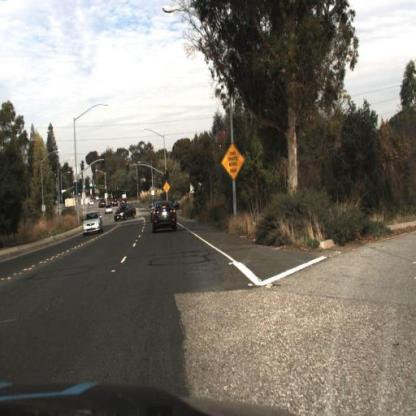car: (155, 201, 180, 233), (82, 208, 105, 240), (113, 200, 142, 224), (113, 201, 138, 221), (81, 212, 102, 235)
trafficLight-Red: (124, 156, 132, 179), (162, 167, 170, 185)
